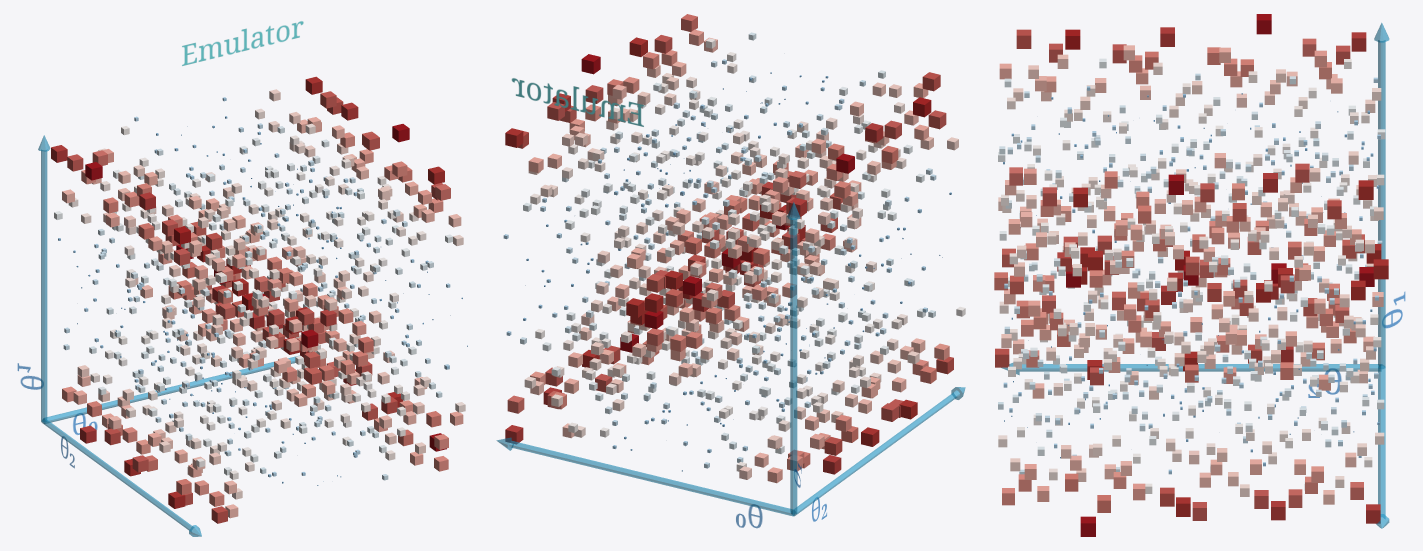
The model's file is quantum-emulator.glb.
3 views of the same model, side by side, from view 1: azimuth 30°, elevation 25°; view 2: azimuth 150°, elevation 25°; view 3: azimuth 270°, elevation 25° (orthographic). The views are drawn at different scales.
Parts seen in each view (by area): view 1: y axis, z axis, x axis, Emulator; view 2: y axis, x axis, z axis, Emulator; view 3: y axis, z axis, x axis.
Part boxes in pixels (x1=…): y axis: x1=38, y1=135, x2=50, y2=421; z axis: x1=41, y1=418, x2=201, y2=536; x axis: x1=44, y1=355, x2=299, y2=423; Emulator: x1=182, y1=21, x2=303, y2=65; y axis: x1=787, y1=202, x2=800, y2=514; x axis: x1=496, y1=437, x2=794, y2=516; z axis: x1=793, y1=387, x2=965, y2=516; Emulator: x1=511, y1=78, x2=643, y2=126; y axis: x1=1374, y1=23, x2=1389, y2=368; z axis: x1=1001, y1=363, x2=1381, y2=374; x axis: x1=1376, y1=364, x2=1389, y2=528.
Size of the model in its own units: 1.09 by 1.3 by 1.09.
102 materials, 4 textured.
